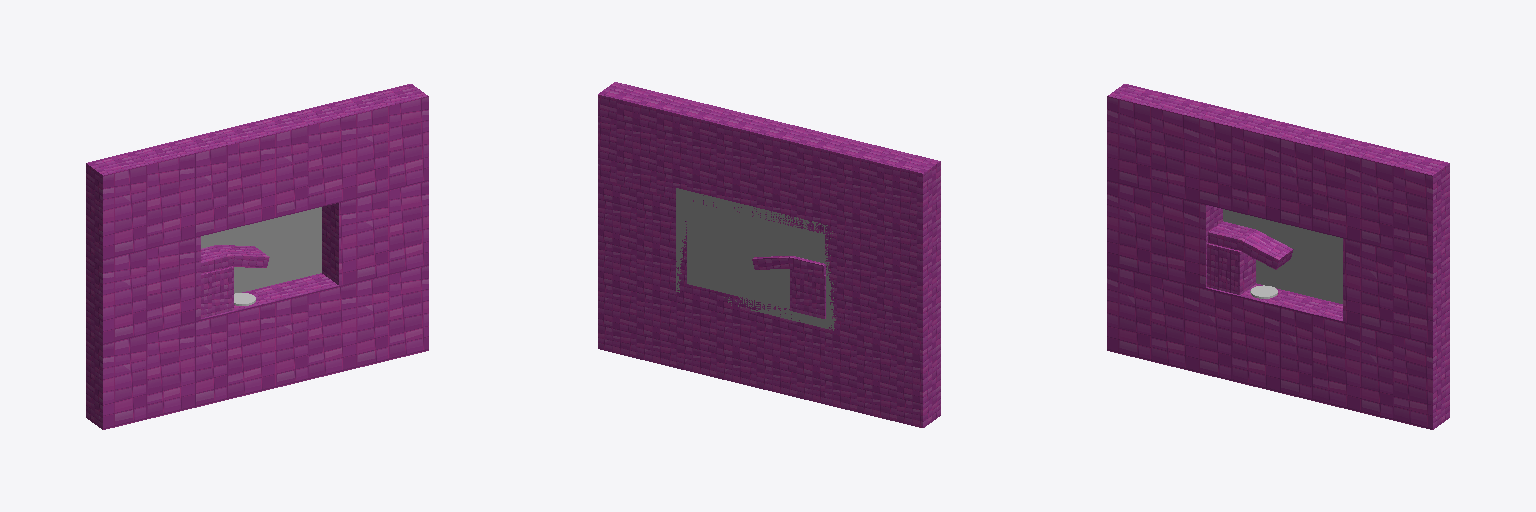
3 renders of one model, left to right at view 1: azimuth 30°, elevation 25°; view 2: azimuth 150°, elevation 25°; view 3: azimuth 330°, elevation 25°, orthographic.
Visible parts, largest first — view 1: Cube, Plane, Cube.001, Cube.002, Cube.004; view 2: Cube, Plane, Cube.001; view 3: Cube, Plane, Cube.001, Cube.002, Cube.004.
Boxes of the visible parts, x1,y1,x2,y2 form: Cube: [86, 84, 428, 429]; Plane: [201, 207, 321, 293]; Cube.001: [201, 266, 233, 317]; Cube.002: [219, 245, 269, 267]; Cube.004: [201, 245, 232, 273]; Cube: [598, 82, 940, 427]; Plane: [676, 188, 835, 330]; Cube.001: [790, 269, 825, 318]; Cube: [1107, 84, 1449, 429]; Plane: [1223, 209, 1342, 303]; Cube.001: [1207, 243, 1255, 294]; Cube.002: [1242, 230, 1293, 269]; Cube.004: [1208, 221, 1255, 250].
Bounding box in the file's own units: 32.55 × 24.33 × 3.42.
Materials: 3 (1 with a texture image).